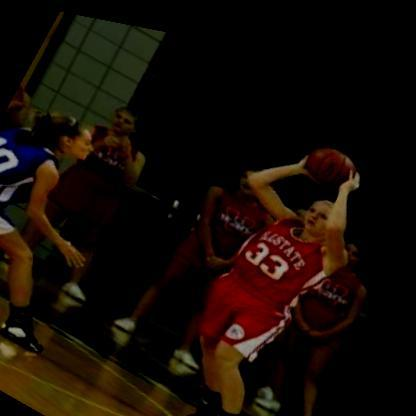basketball: (296, 120, 365, 189)
